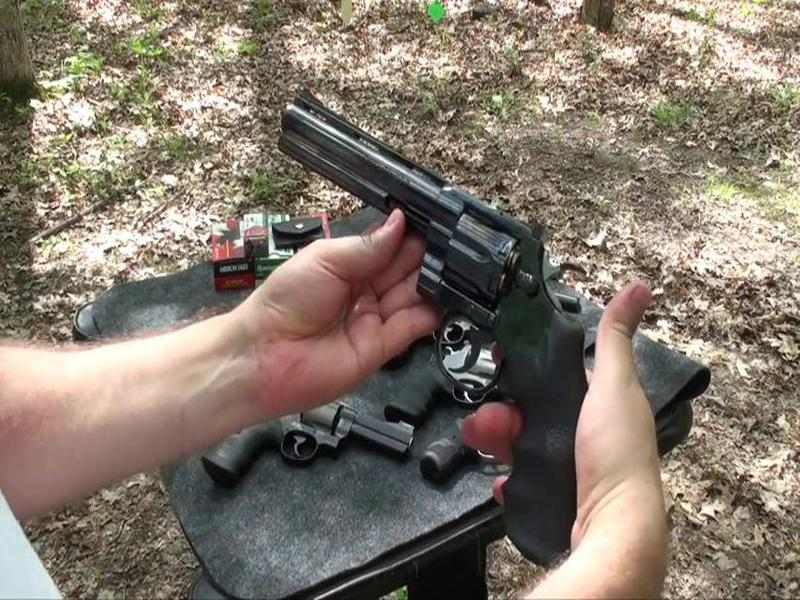Revolver: (268, 102, 633, 549)
